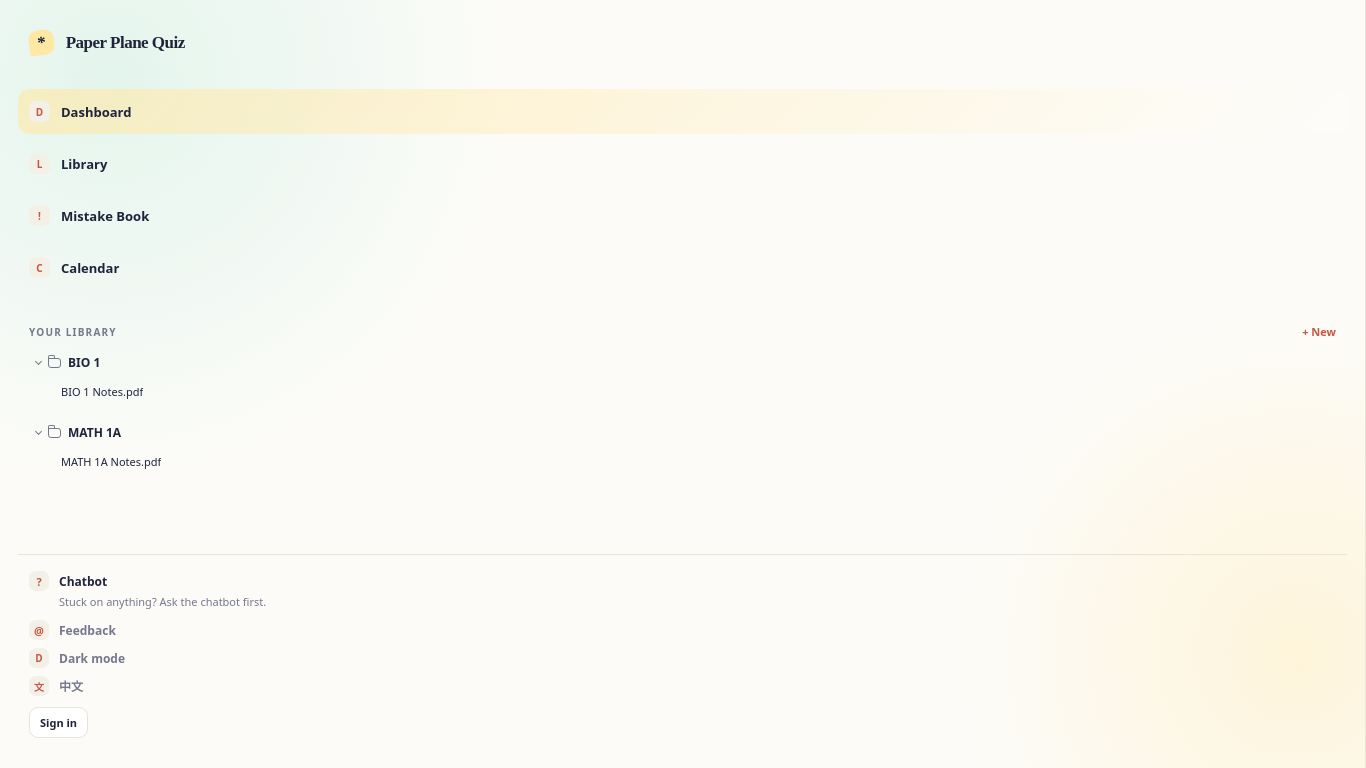
Test: DashboardNavigation › folds one course without touching the others
Click the button "BIO 1". click: (84, 362)
box: [29,349,1336,376]
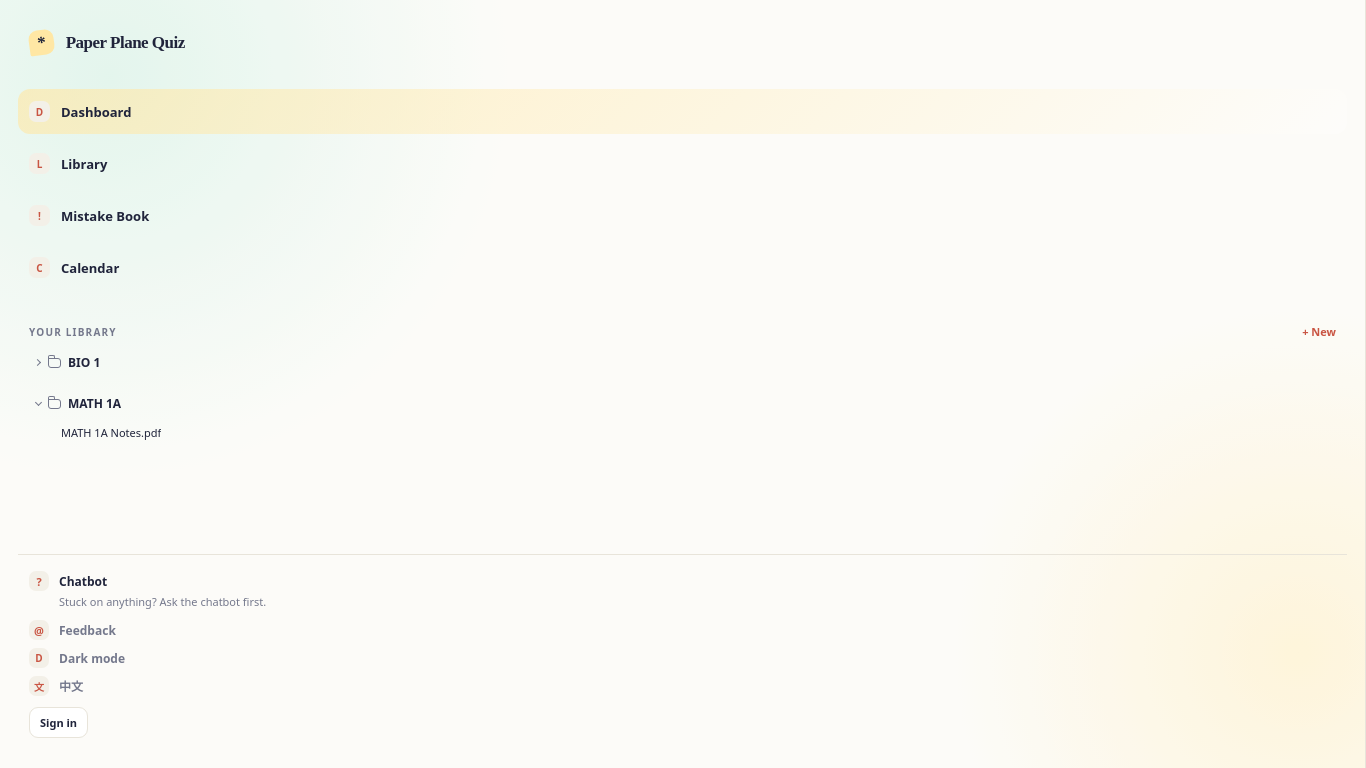
Check: the link "MATH 1A Notes.pdf" is shown, box [61,425,161,440]
Check: the link "BIO 1 Notes.pdf" is gone
